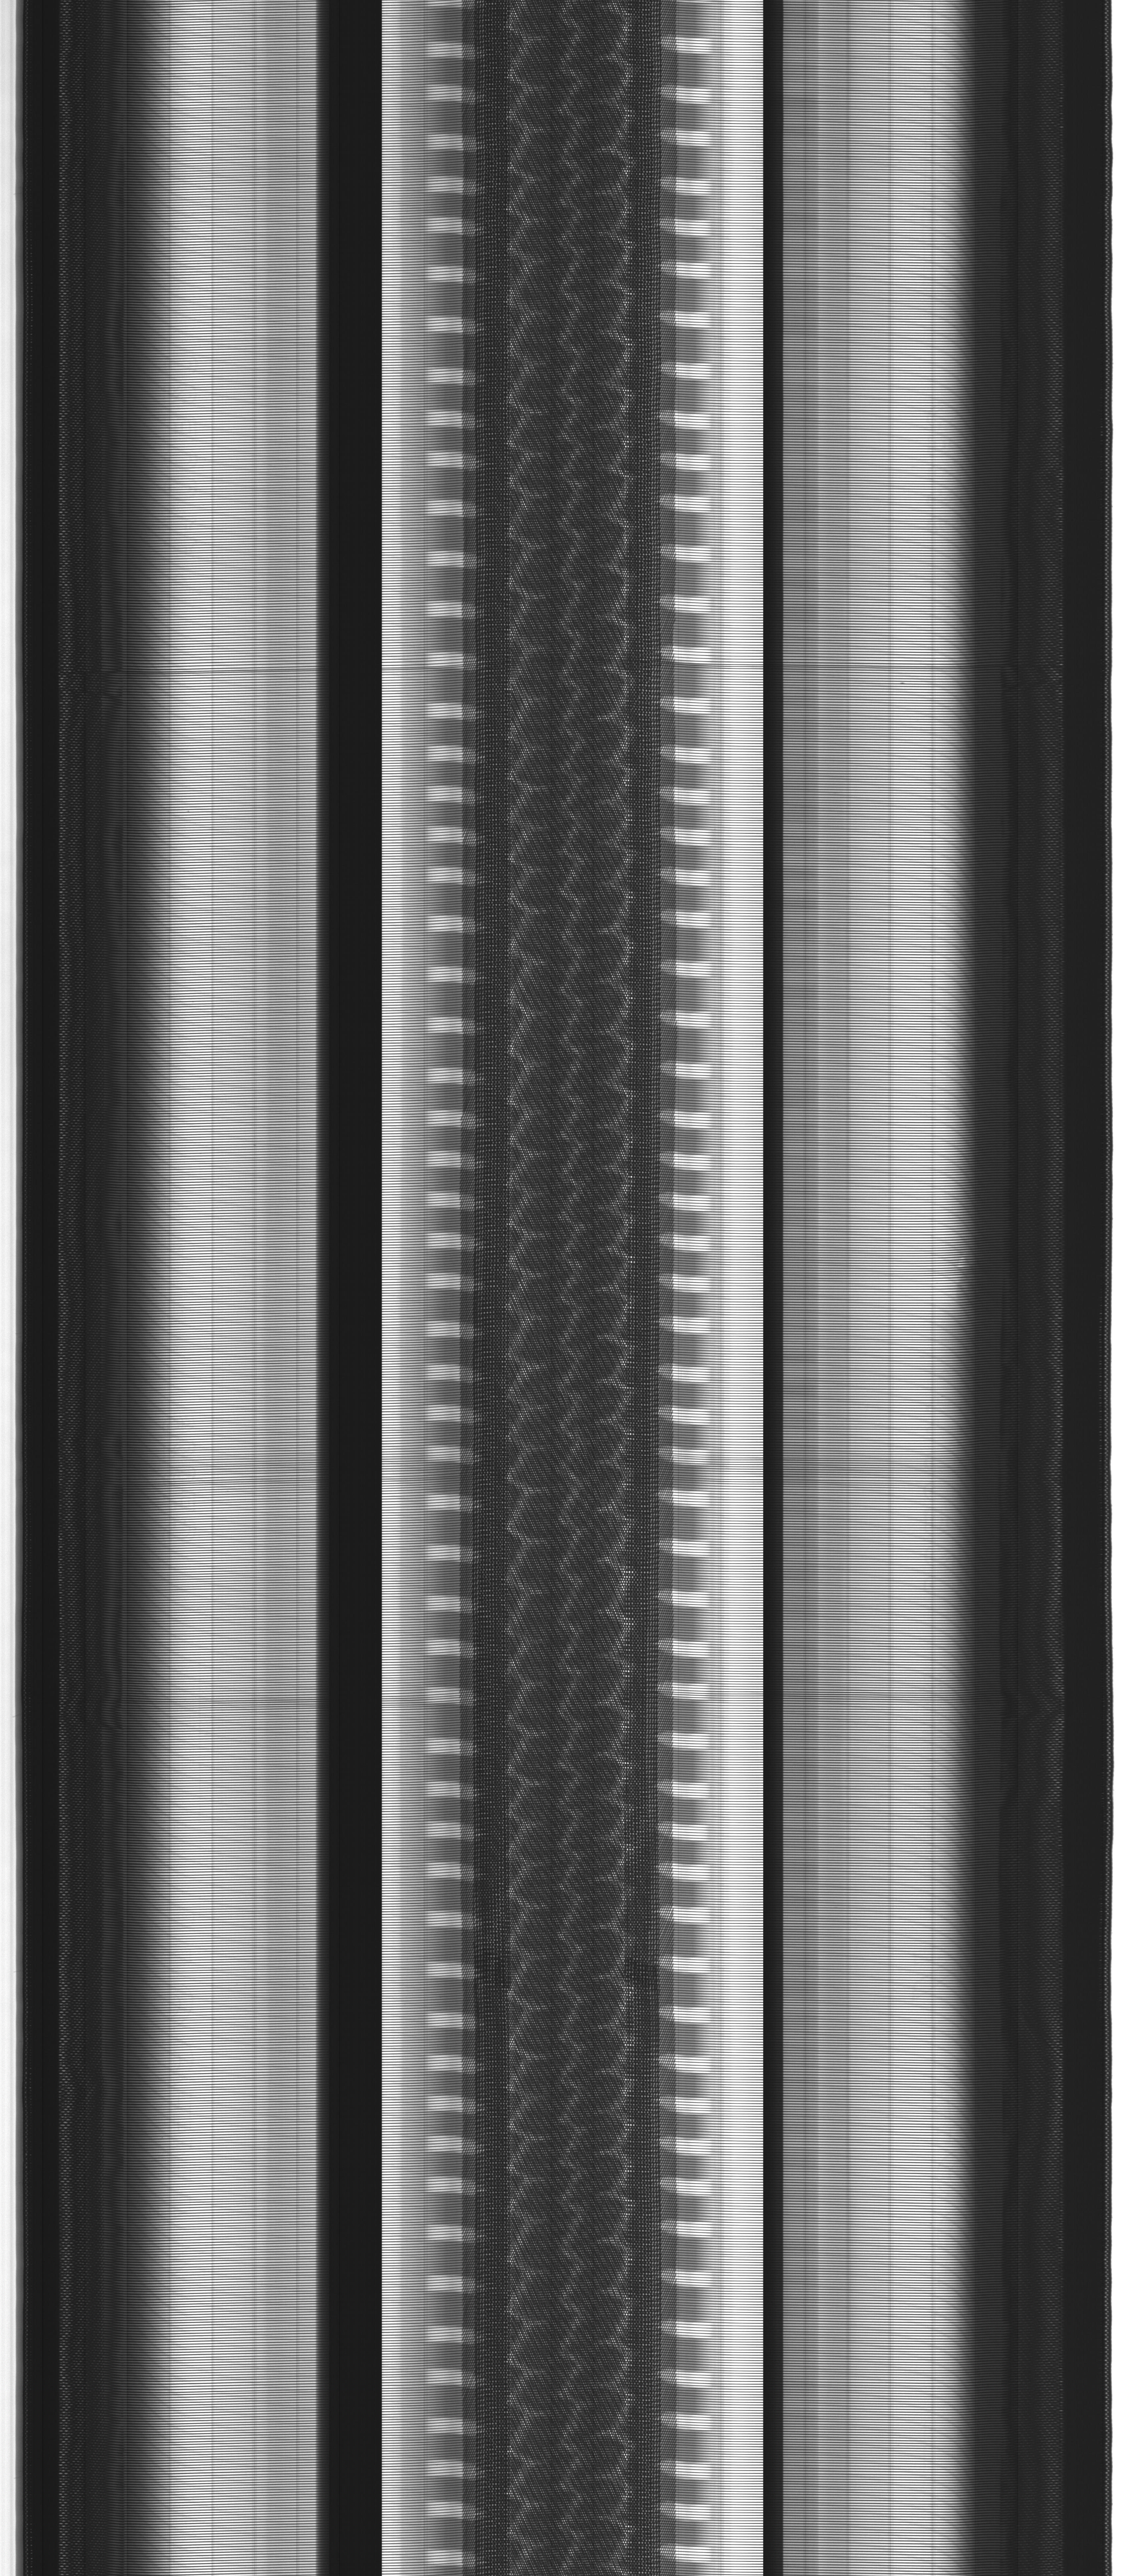72B: (923, 1230, 987, 1329)
